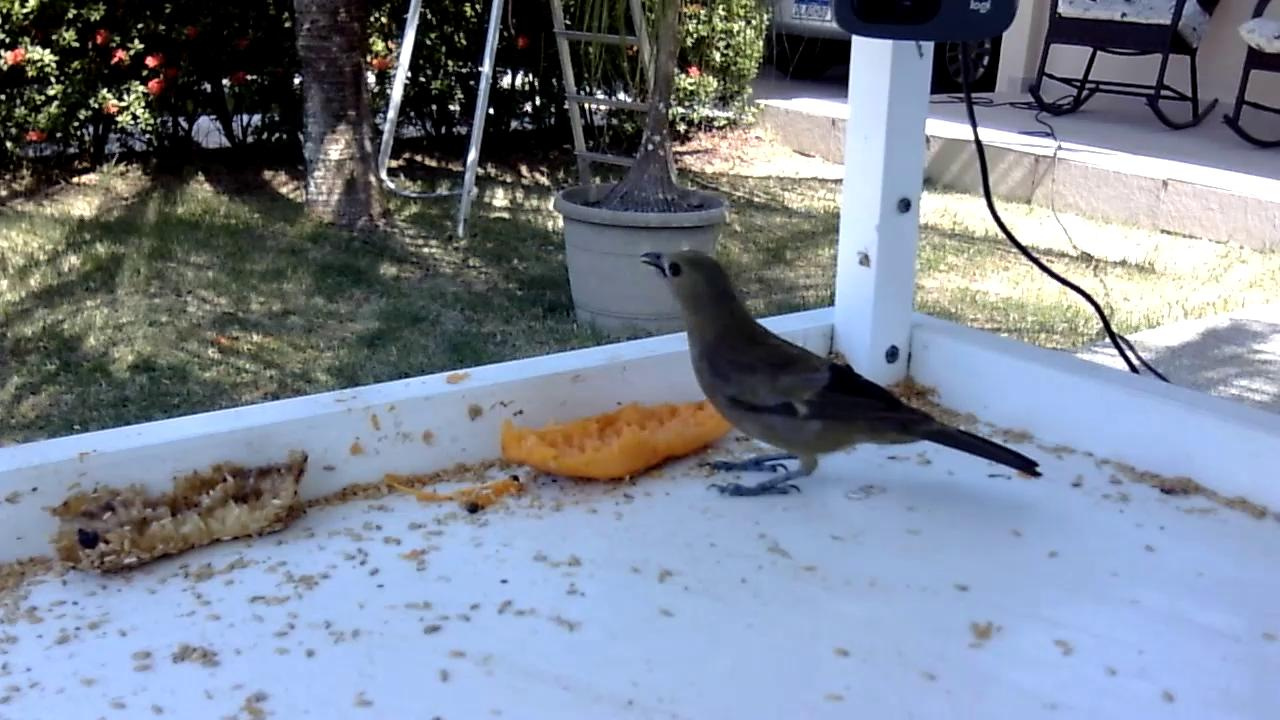sanhaco_do_coqueiro: (640, 247, 1047, 502)
